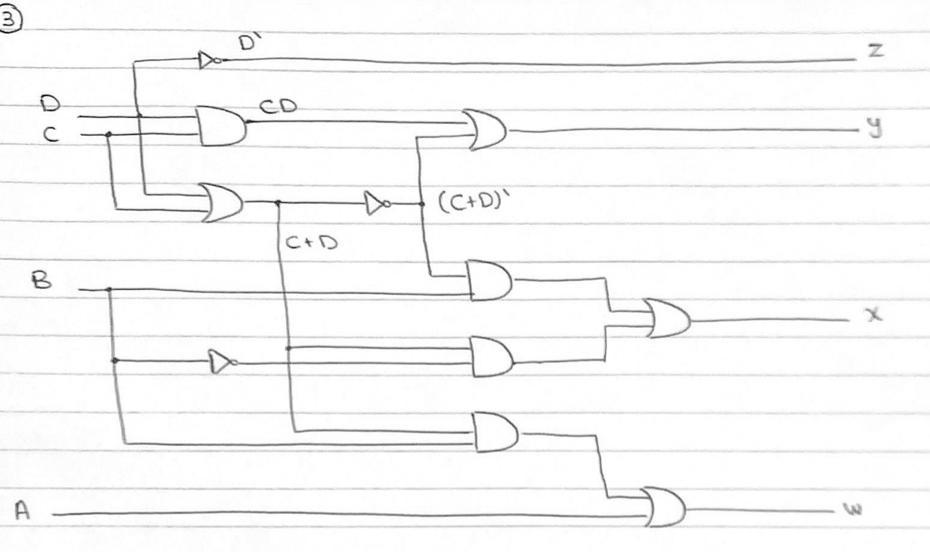AND: (464, 403, 528, 461), (189, 99, 254, 156), (466, 327, 524, 390), (459, 251, 519, 308)
NOT: (200, 342, 244, 386), (357, 181, 396, 222), (194, 44, 227, 81)
OR: (638, 287, 707, 354), (449, 103, 523, 159), (189, 169, 249, 235), (631, 477, 695, 537)
